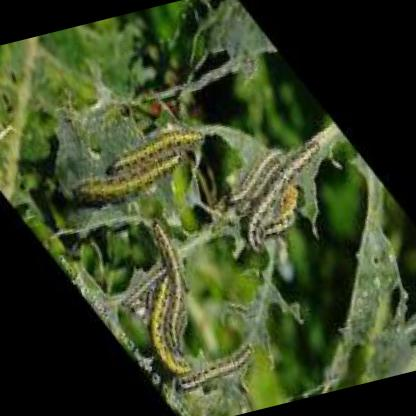pieris: (105, 121, 210, 178), (149, 277, 192, 377), (152, 222, 184, 355)
